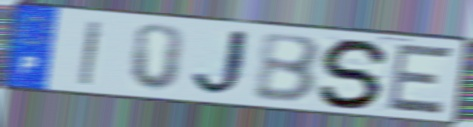0: (129, 22, 187, 94)
B: (252, 33, 324, 106)
E: (384, 41, 457, 117)
I: (77, 18, 106, 88)
J: (190, 28, 257, 99)
S: (316, 36, 394, 111)
